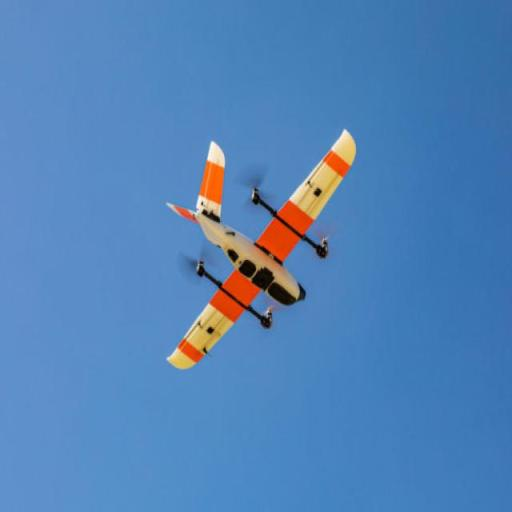uav: (144, 122, 368, 396)
